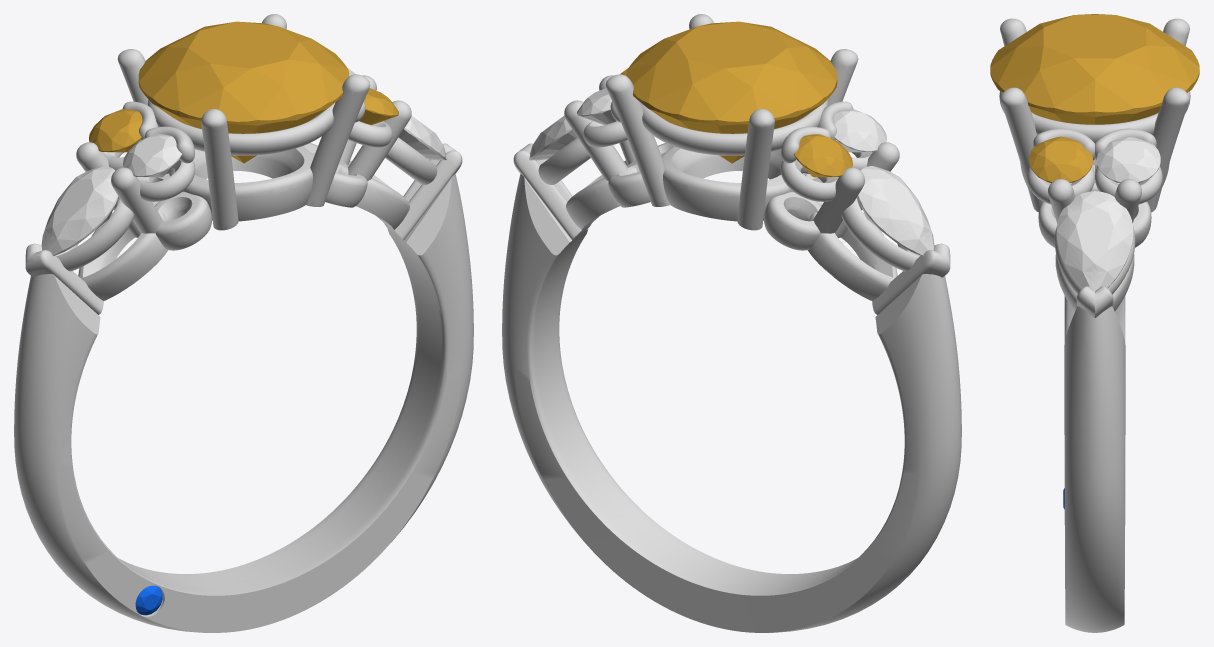
File: ScottB v3.glb
3 views of the same model, side by side, from view 1: azimuth 30°, elevation 25°; view 2: azimuth 150°, elevation 25°; view 3: azimuth 270°, elevation 25° (orthographic).
Visible parts, largest first — view 1: v2 PT for 3d model, Scott spessartite garnet for 3d model, v3 dia for 3d model.002, champagne not actually spessartite garnet sides for 3d model, v3 dia for 3d model.003, v3 dia for 3d model, Scott sapph for 3d model; view 2: v2 PT for 3d model, Scott spessartite garnet for 3d model, v3 dia for 3d model.002, champagne not actually spessartite garnet sides for 3d model, v3 dia for 3d model.003, v3 dia for 3d model, v3 dia for 3d model.001; view 3: v2 PT for 3d model, Scott spessartite garnet for 3d model, v3 dia for 3d model, champagne not actually spessartite garnet sides for 3d model, v3 dia for 3d model.001.
Boxes of the visible parts, bbox=[...] form: v2 PT for 3d model: bbox=[14, 14, 473, 632]; Scott spessartite garnet for 3d model: bbox=[138, 21, 349, 163]; v3 dia for 3d model.002: bbox=[41, 166, 118, 255]; champagne not actually spessartite garnet sides for 3d model: bbox=[89, 88, 398, 152]; v3 dia for 3d model.003: bbox=[123, 134, 182, 177]; v3 dia for 3d model: bbox=[398, 116, 446, 160]; Scott sapph for 3d model: bbox=[135, 585, 162, 615]; v2 PT for 3d model: bbox=[502, 14, 961, 632]; Scott spessartite garnet for 3d model: bbox=[626, 21, 837, 163]; v3 dia for 3d model.002: bbox=[857, 166, 934, 255]; champagne not actually spessartite garnet sides for 3d model: bbox=[620, 68, 852, 177]; v3 dia for 3d model.003: bbox=[833, 109, 886, 152]; v3 dia for 3d model: bbox=[529, 116, 577, 160]; v3 dia for 3d model.001: bbox=[577, 88, 616, 125]; v2 PT for 3d model: bbox=[999, 18, 1190, 632]; Scott spessartite garnet for 3d model: bbox=[990, 14, 1199, 124]; v3 dia for 3d model: bbox=[1056, 191, 1133, 290]; champagne not actually spessartite garnet sides for 3d model: bbox=[1029, 136, 1092, 182]; v3 dia for 3d model.001: bbox=[1097, 136, 1160, 182].
Bounding box in the file's own units: 20.32 × 24.71 × 8.2.
